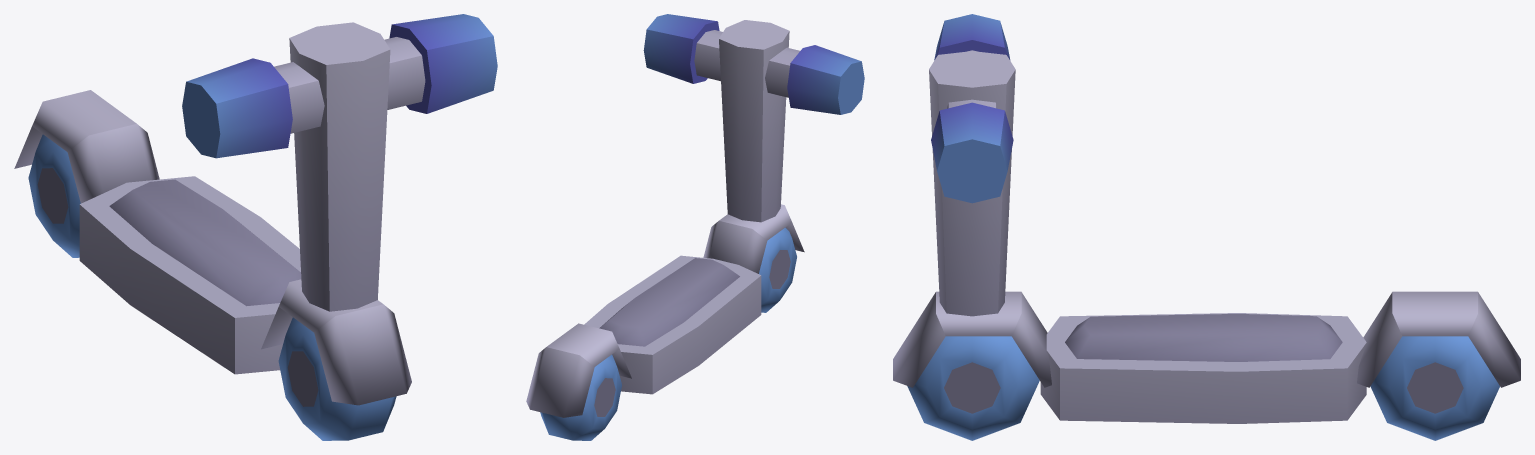
Rendered from sport_scooter.glb.
3 renders of one model, left to right at view 1: azimuth 30°, elevation 25°; view 2: azimuth 150°, elevation 25°; view 3: azimuth 270°, elevation 25°, orthographic. The views are drawn at different scales.
Parts seen in each view (by area): view 1: scooter; view 2: scooter; view 3: scooter.
Part boxes in pixels (left/top/right/bottom): scooter: left=14, top=14, right=497, bottom=440; scooter: left=526, top=14, right=864, bottom=440; scooter: left=893, top=14, right=1520, bottom=440.
Bounding box in the file's own units: 0.3248 × 0.4396 × 0.6875.
1 material, 1 textured.
